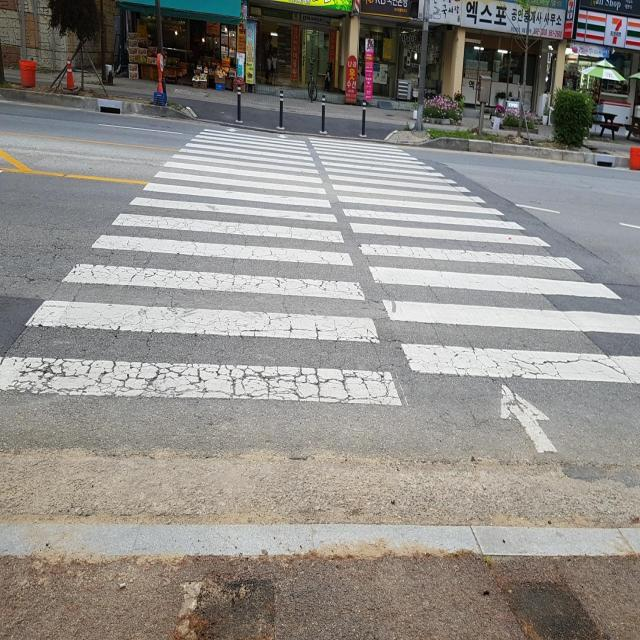횡단보도: (0, 128, 640, 454)
